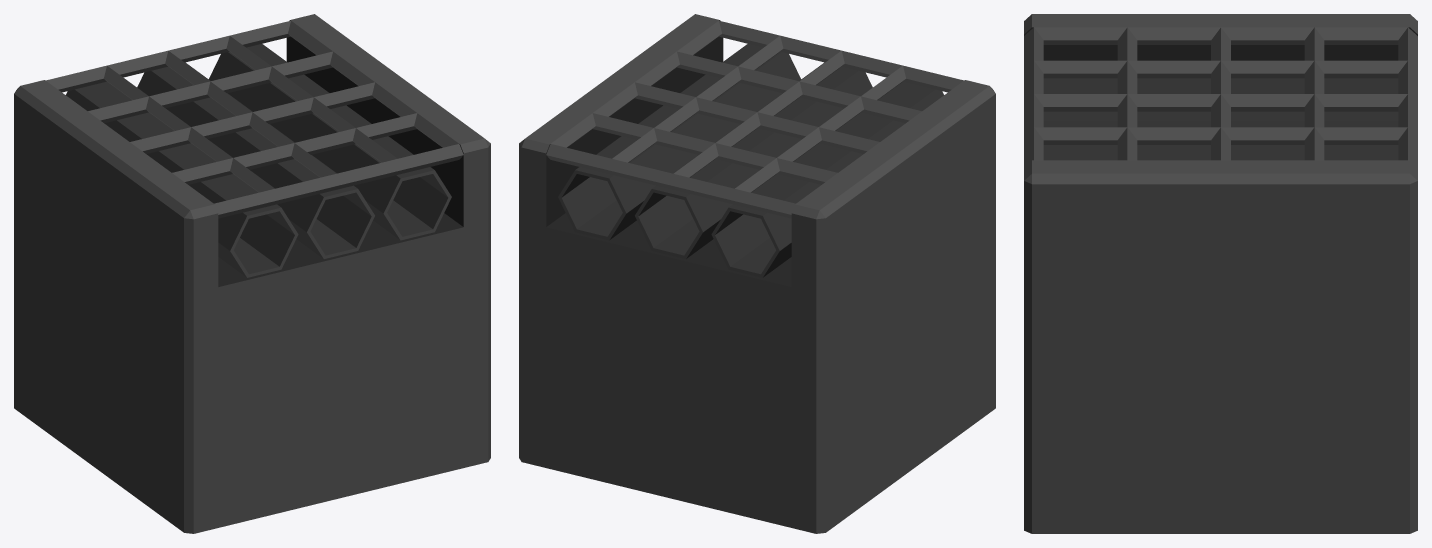
File: HJD_SFB_Platform_06.fbx
The picture shows the model from 3 angles, left to right: view 1: azimuth 30°, elevation 25°; view 2: azimuth 150°, elevation 25°; view 3: azimuth 270°, elevation 25°; orthographic projection. The views are drawn at different scales.
Parts seen in each view (by area): view 1: HJD_SFB_Asset; view 2: HJD_SFB_Asset; view 3: HJD_SFB_Asset.
Part boxes in pixels (<box>): HJD_SFB_Asset: <box>14,14,490,533</box>; HJD_SFB_Asset: <box>519,14,995,533</box>; HJD_SFB_Asset: <box>1024,14,1417,533</box>.
Bounding box in the file's own units: 100 × 100 × 100.
